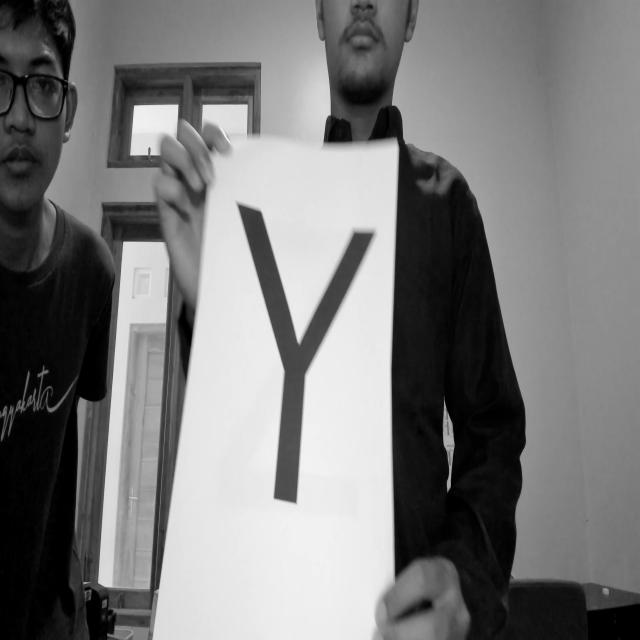y: (227, 183, 393, 536)
